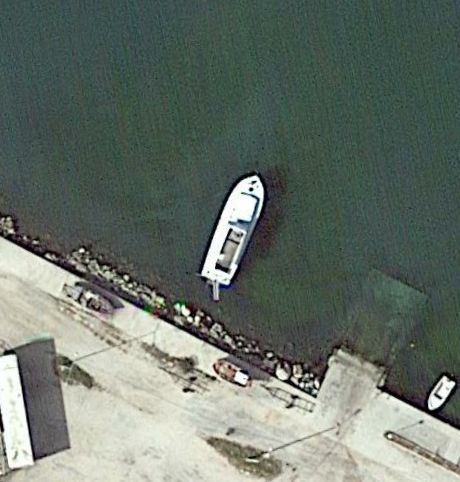boat: (198, 171, 268, 302), (426, 372, 458, 415)
